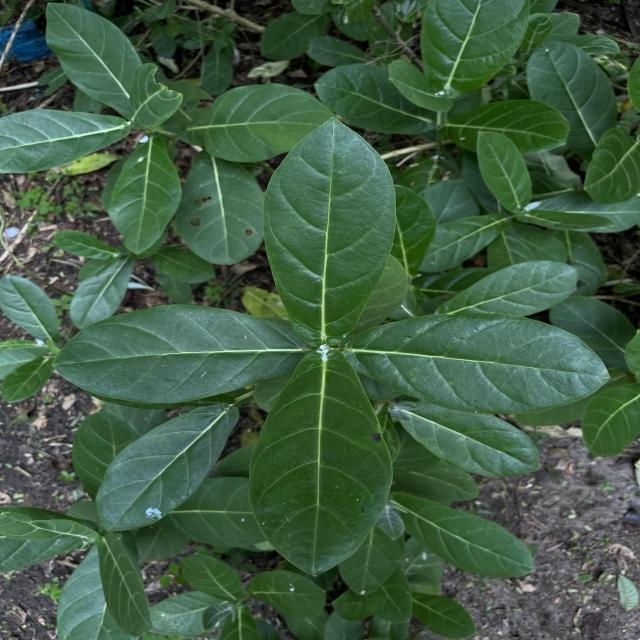Calotropis gigantea: (246, 349, 394, 581), (260, 116, 399, 347), (343, 308, 615, 416), (51, 302, 310, 405), (92, 403, 240, 534), (391, 490, 536, 580), (186, 80, 340, 164), (43, 0, 145, 119), (394, 402, 541, 478), (418, 0, 531, 94), (524, 40, 620, 150), (179, 151, 270, 267), (108, 132, 185, 257), (0, 108, 133, 176), (431, 258, 578, 319), (442, 99, 572, 152), (475, 130, 533, 214), (68, 258, 136, 328), (583, 124, 640, 204), (0, 272, 60, 342)
